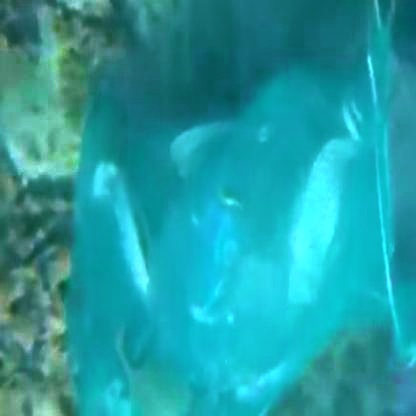plastic: (103, 136, 389, 370)
